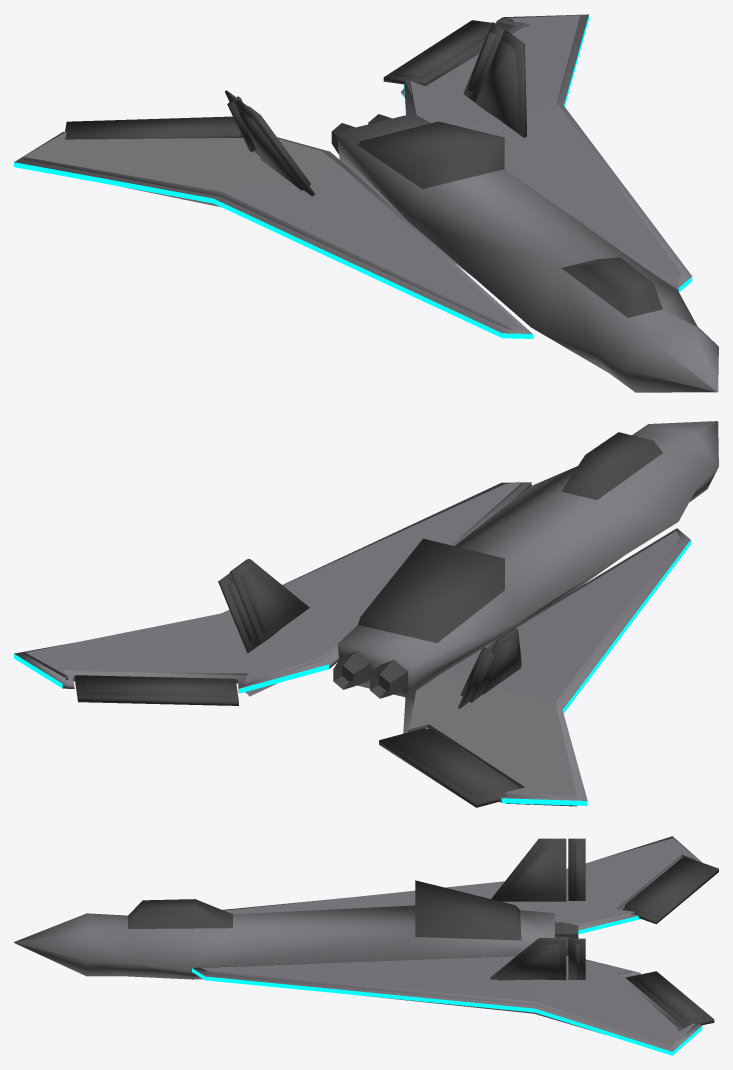
Rendered from SlayerX.fbx.
3 views of the same model, one above another, from view 1: azimuth 30°, elevation 25°; view 2: azimuth 150°, elevation 25°; view 3: azimuth 270°, elevation 25° (orthographic). The views are drawn at different scales.
Visible parts, largest first — view 1: StealthPlane_LOD0; view 2: StealthPlane_LOD0; view 3: StealthPlane_LOD0.
Boxes of the visible parts, <box> form: StealthPlane_LOD0: <box>14,14,718,392</box>; StealthPlane_LOD0: <box>14,421,718,807</box>; StealthPlane_LOD0: <box>14,836,718,1055</box>.
Size of what is drawn, in the model's own units: 7.01 by 1.16 by 9.42.
